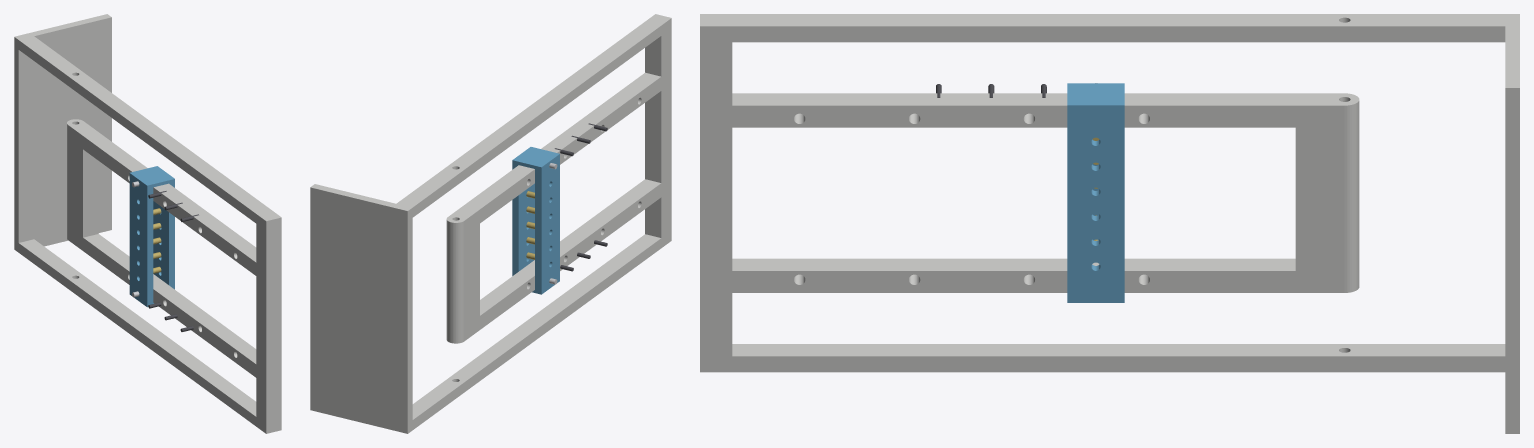
File: static_0.glb
3 views of the same model, side by side, from view 1: azimuth 30°, elevation 25°; view 2: azimuth 150°, elevation 25°; view 3: azimuth 270°, elevation 25° (orthographic). The views are drawn at different scales.
Parts seen in each view (by area): view 1: world; view 2: world; view 3: world.
Part boxes in pixels (x1,y1,x2,y2): world: (14, 14, 281, 433); world: (310, 14, 671, 433); world: (700, 14, 1519, 433).
Size of the model in its own units: 0.0854 by 0.1662 by 0.3569.
